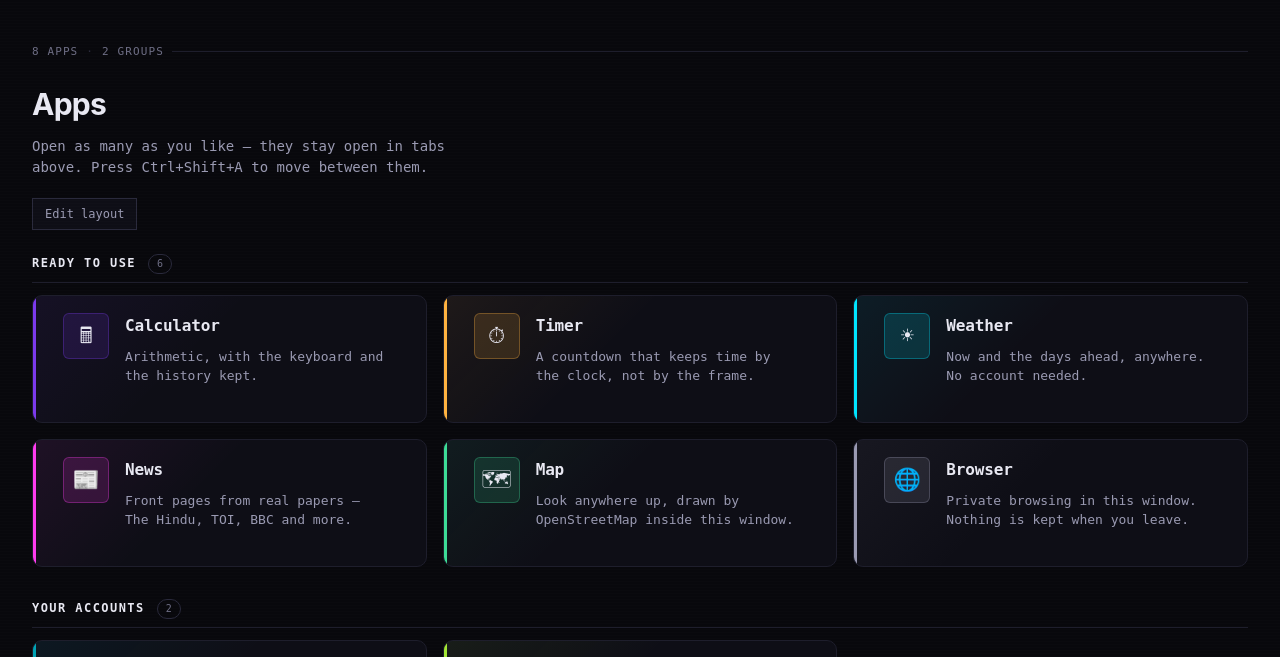
Apps › the layout editor › hides a tile, and says how many are hidden
This screenshot has width=1280, height=657.
Click the button "Edit layout" at {"x": 85, "y": 214}, box 32,198 -> 138,230
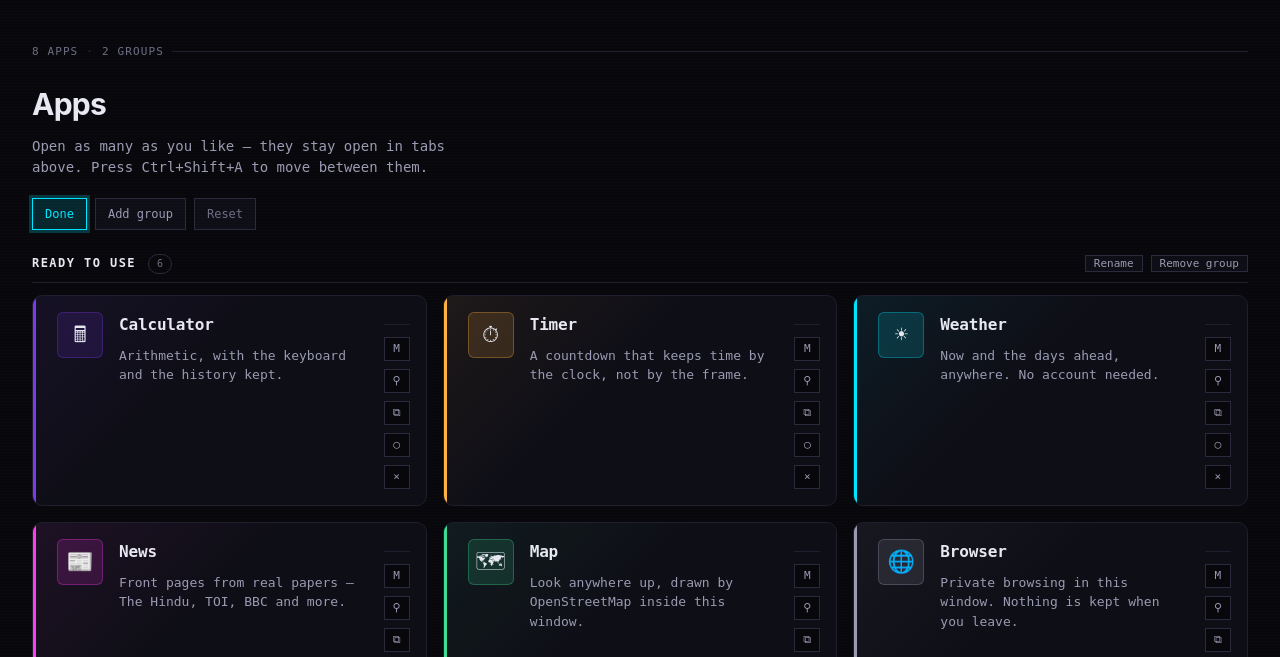
Click the button named "hide" at {"x": 397, "y": 445}, box 384,433 -> 410,457
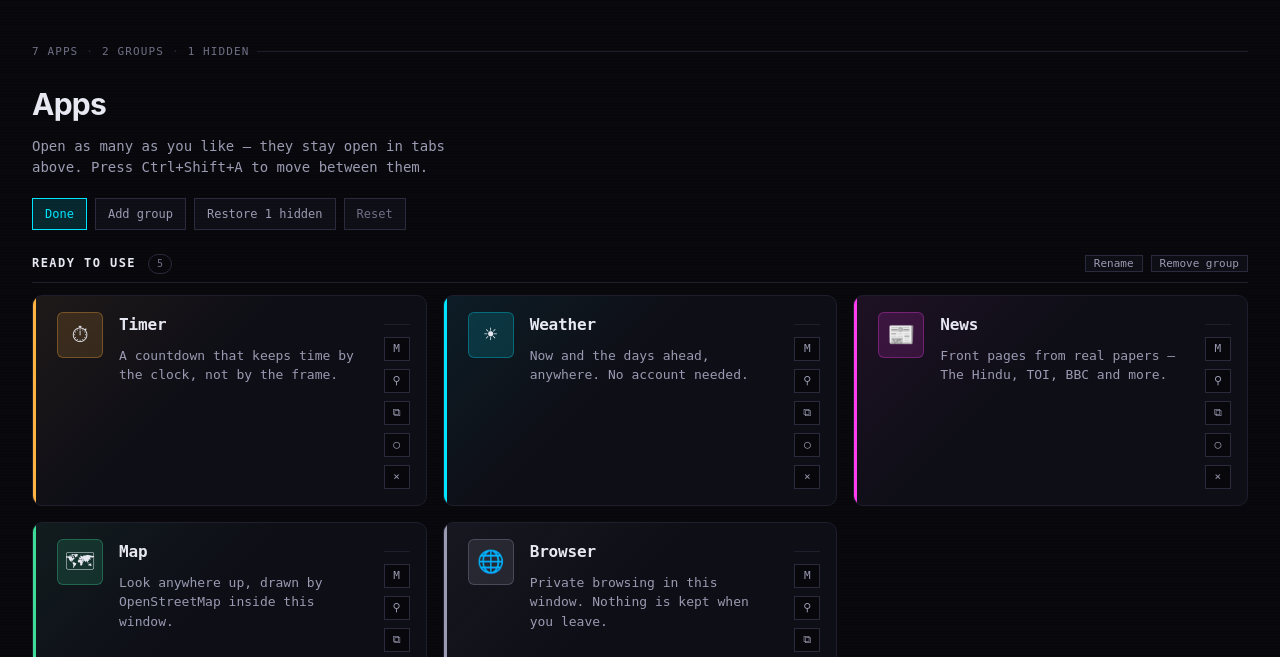
Now the text "Calculator" is gone
Now the header "apps" shows "1 hidden", box 32,45 -> 445,230
